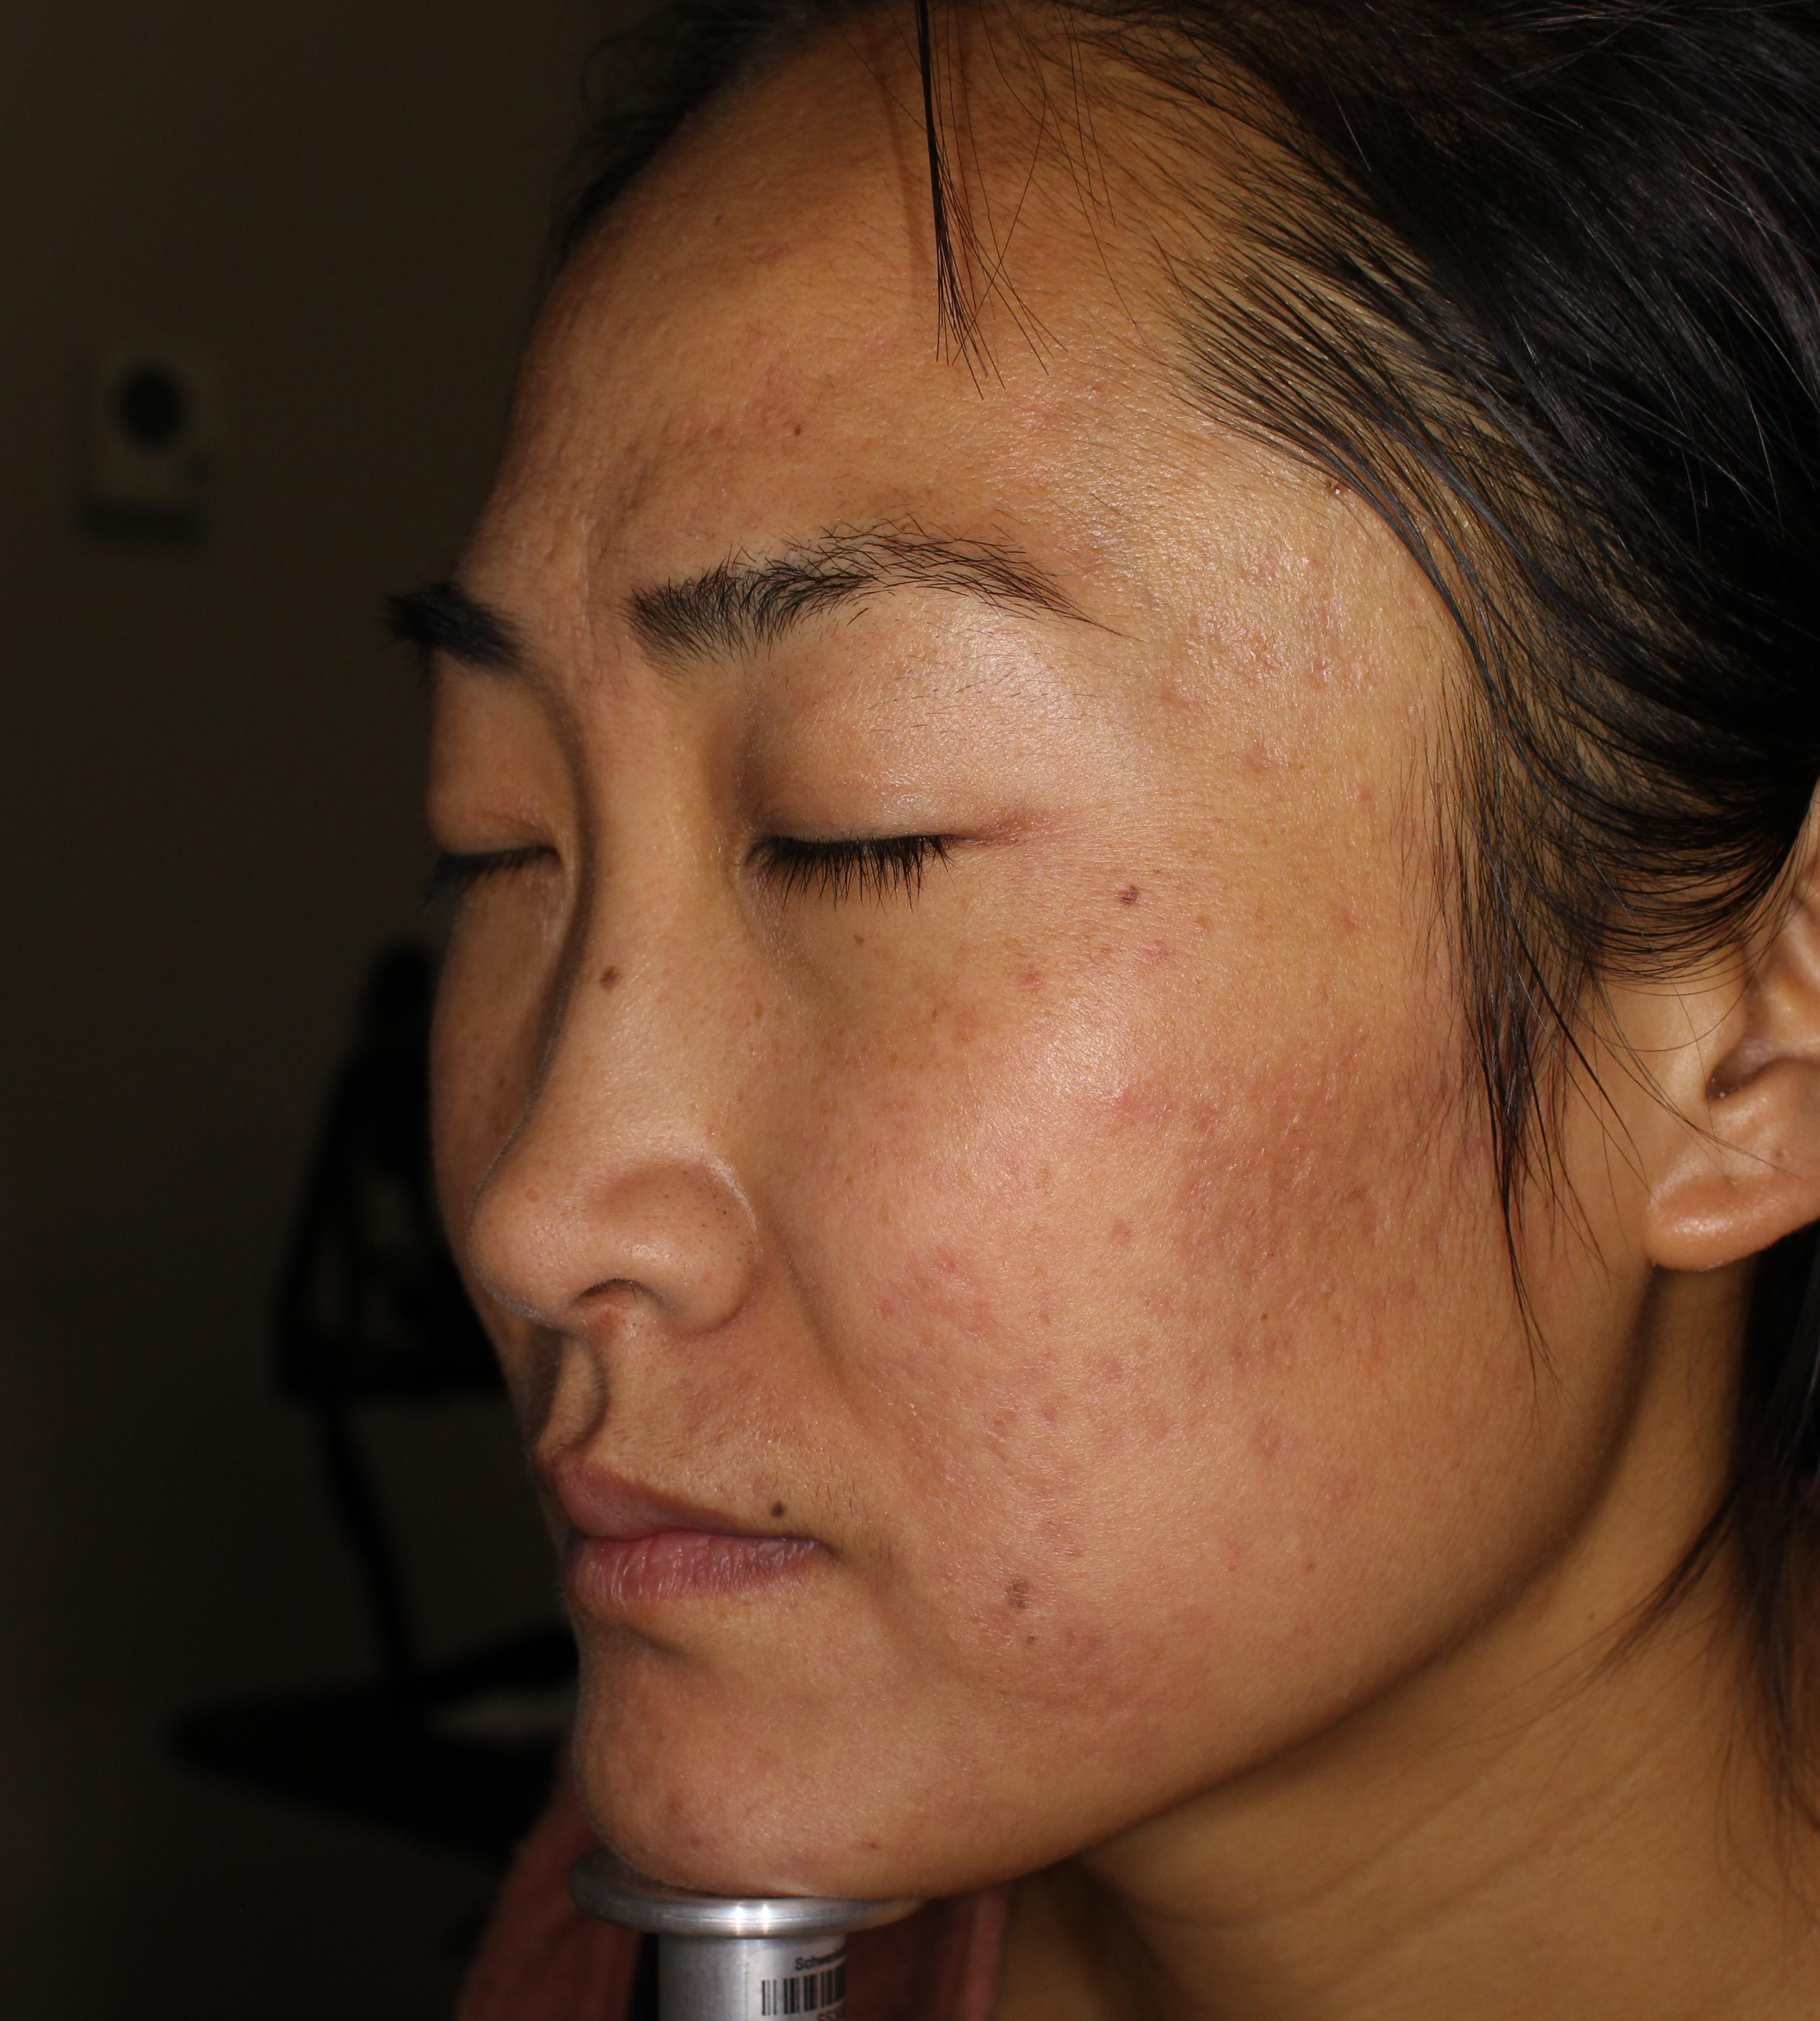fore: (771, 183, 840, 258), (1014, 1387, 1077, 1459), (1091, 1064, 1144, 1136), (646, 1782, 696, 1849), (987, 1557, 1031, 1617), (1288, 534, 1335, 585)
